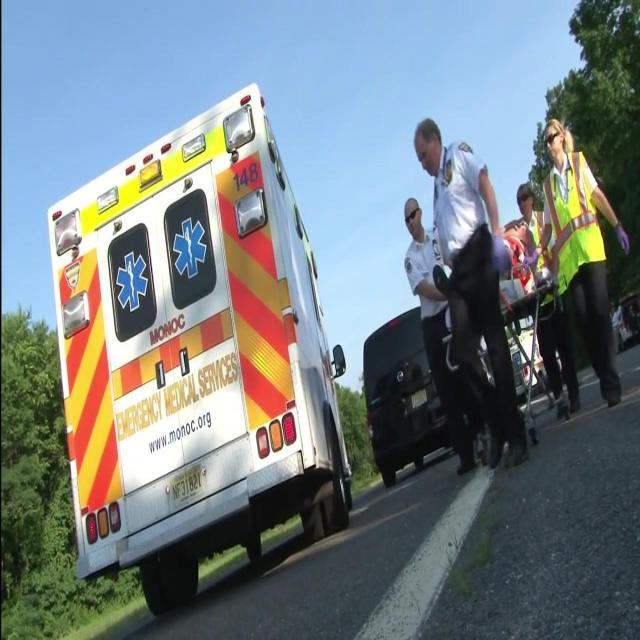Vest: (541, 147, 608, 294), (518, 209, 548, 277)
